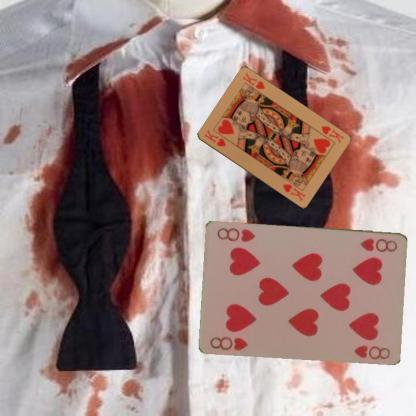8h: (208, 333, 250, 352), (358, 235, 399, 253)
Kh: (318, 123, 345, 145), (201, 127, 227, 148)
